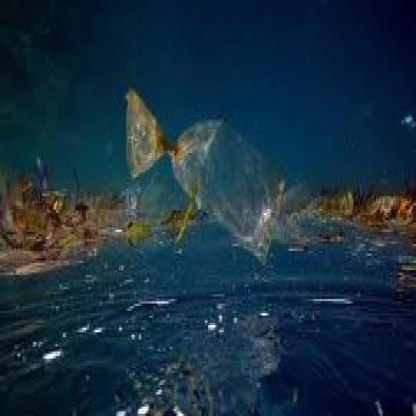pbag: (124, 86, 288, 270)
